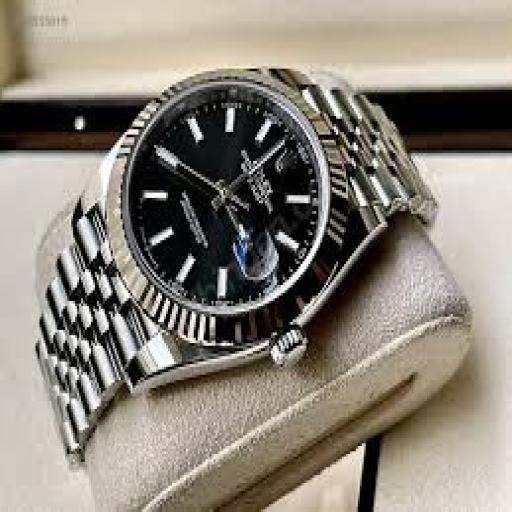KolSaati: (16, 36, 470, 477)
